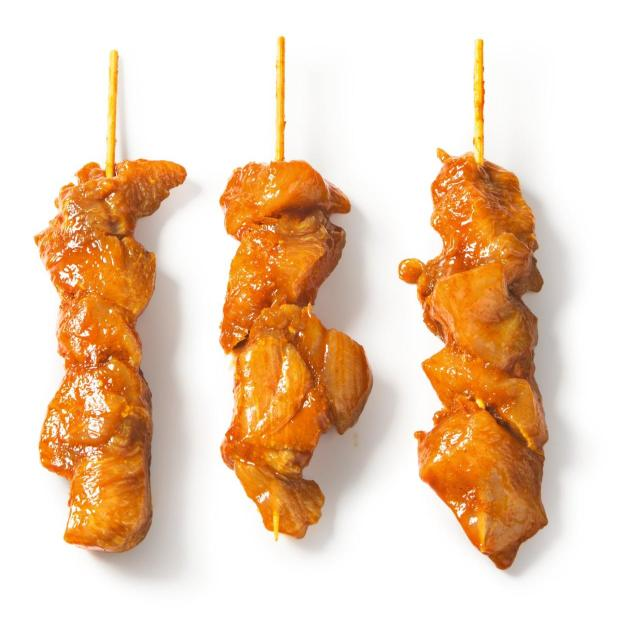Sate: (53, 44, 563, 602)
